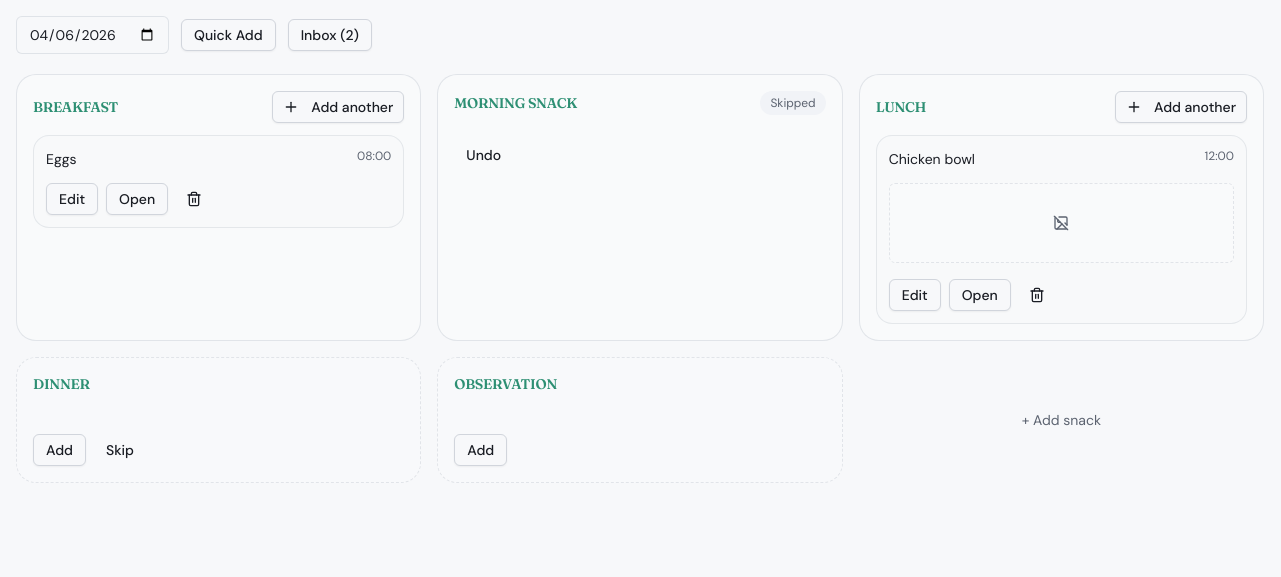
it: FoodPage › keeps organizer actions inside inbox mode and refreshes inbox and day state in place
Click the button "Inbox (2)" at (330, 35), box [288, 19, 372, 51]
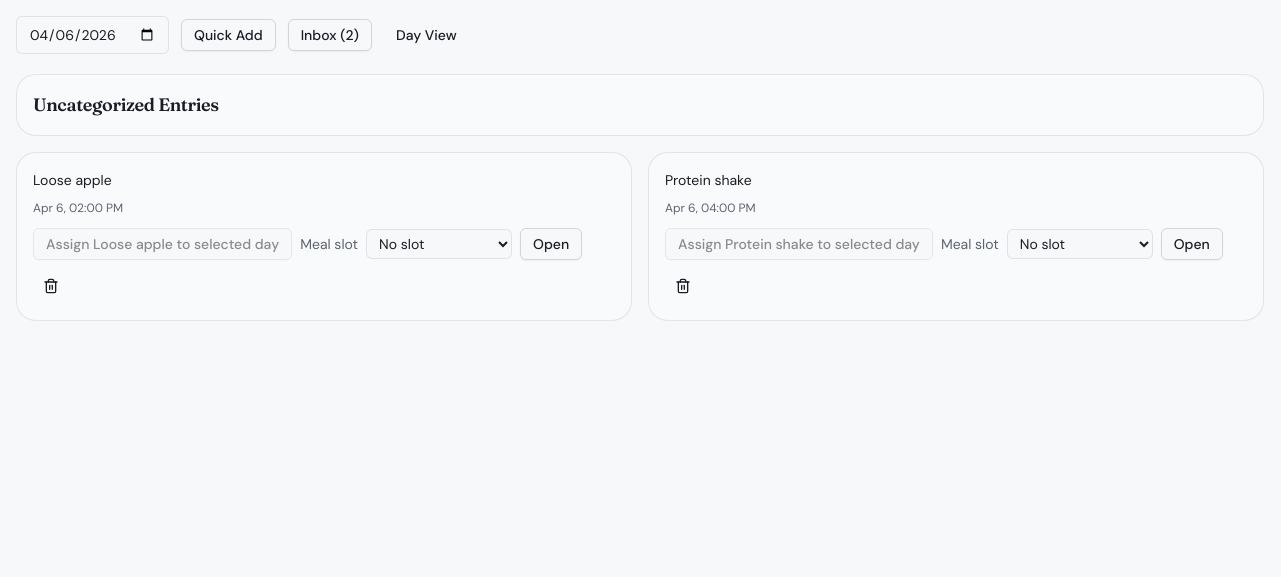
Check: the heading "Uncategorized Entries" is shown, box [33, 93, 219, 116]
Check: the button "Assign Loose apple to selected day" is disabled, box [33, 228, 292, 260]
Select "Afternoon Snack" in the dropdown named "meal slot loose apple" at (439, 244), box [366, 229, 512, 259]
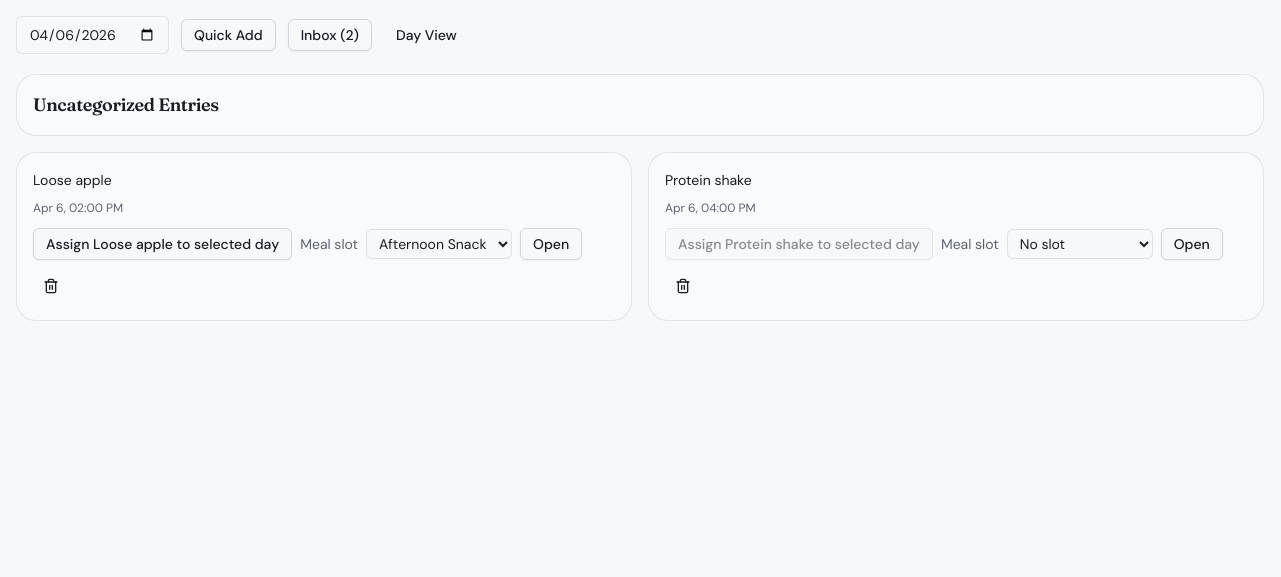
Click the button "Assign Loose apple to selected day" at (163, 244), box [33, 228, 292, 260]
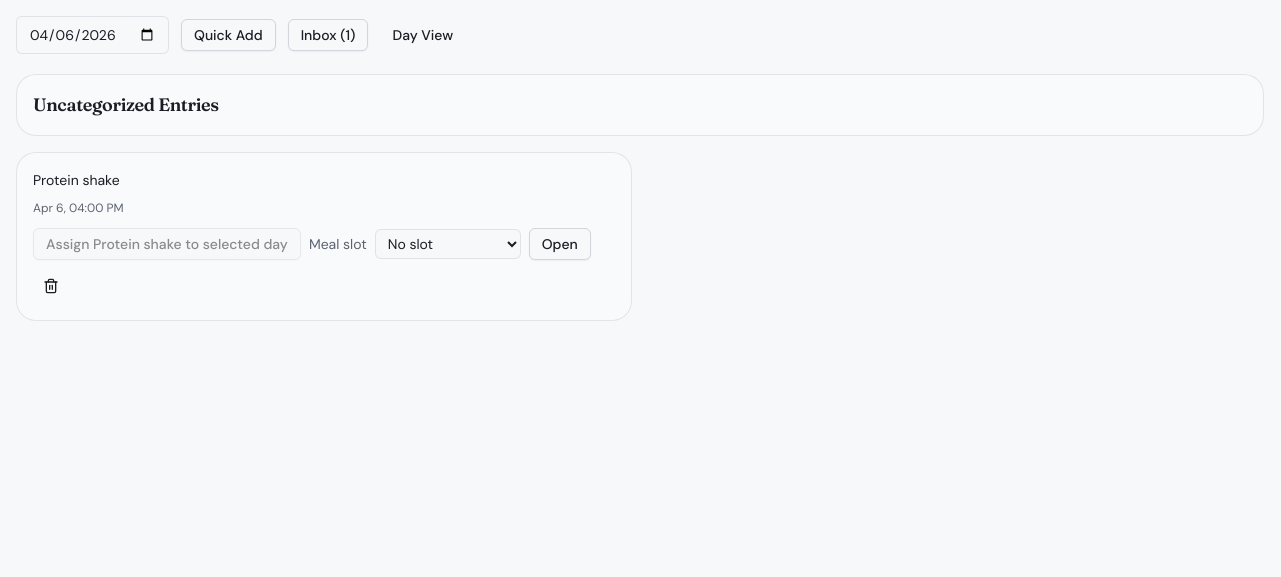
Check: the button "Inbox (1)" is shown, box [288, 19, 368, 51]
Check: the text "Loose apple" is gone
Click the button "Day View" at (423, 35), box [380, 19, 465, 51]
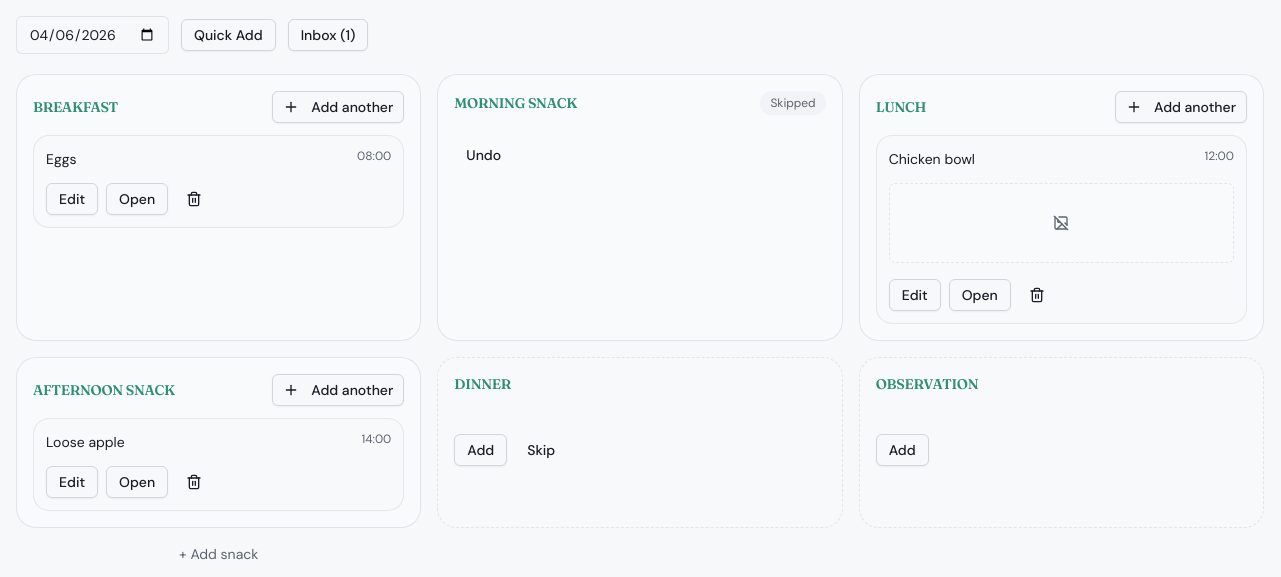
Check: the text "Loose apple" is shown, box [46, 431, 125, 454]
